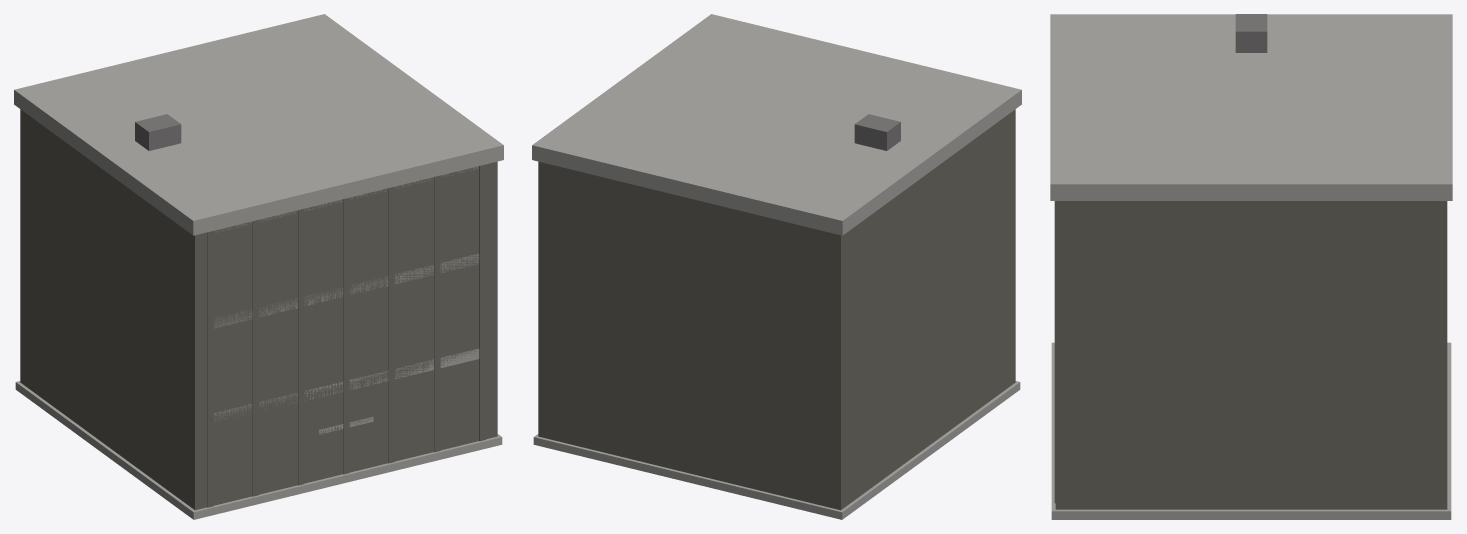
The model's file is b_bank.glb.
3 renders of one model, left to right at view 1: azimuth 30°, elevation 25°; view 2: azimuth 150°, elevation 25°; view 3: azimuth 270°, elevation 25°, orthographic. The views are drawn at different scales.
Parts seen in each view (by area): view 1: Building; view 2: Building; view 3: Building.
Boxes of the visible parts, bbox=[...] form: Building: bbox=[14, 14, 503, 519]; Building: bbox=[532, 14, 1021, 519]; Building: bbox=[1050, 14, 1452, 519].
Size of the model in its own units: 15.4 by 15.1 by 15.4.
5 materials, 2 textured.
